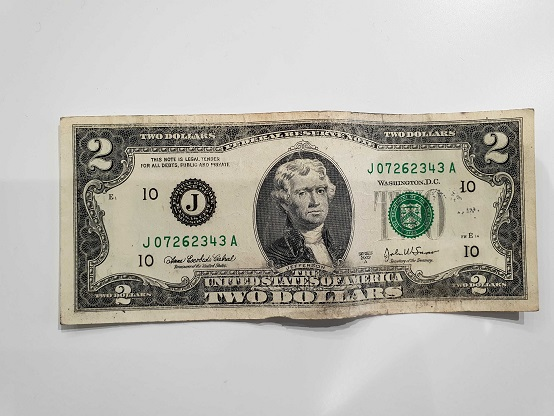2dollar: (59, 109, 540, 323)
